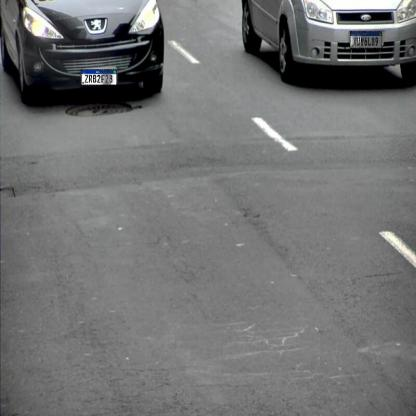PlacaM: (350, 31, 382, 49), (81, 70, 117, 86)
